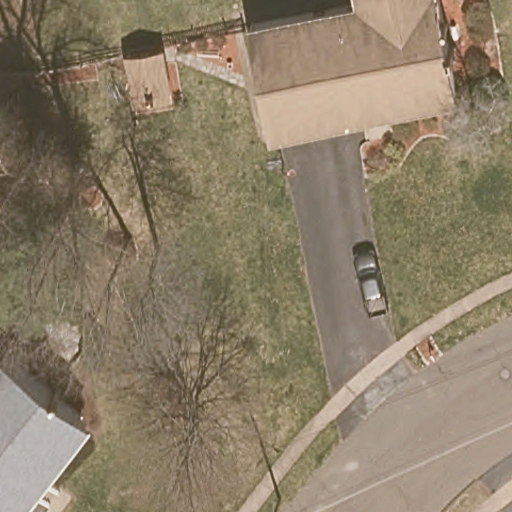DT: (270, 497, 289, 512)
